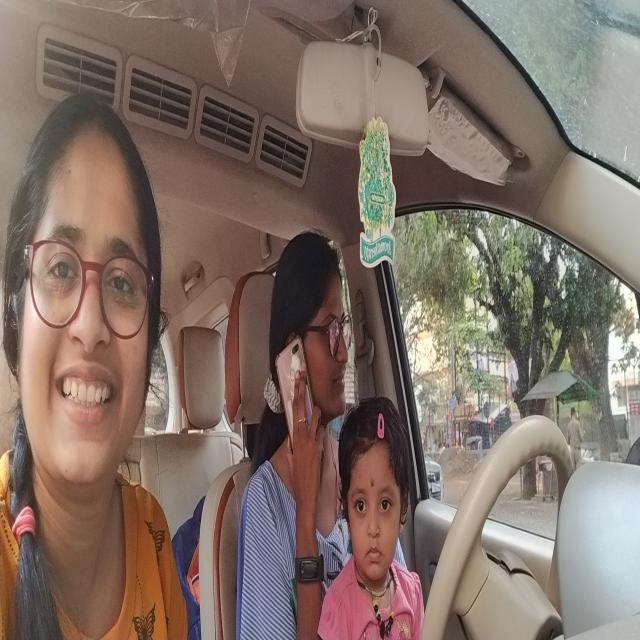child: (336, 387, 412, 582)
mobile: (274, 334, 326, 477)
person: (4, 88, 166, 500), (267, 224, 352, 436)
